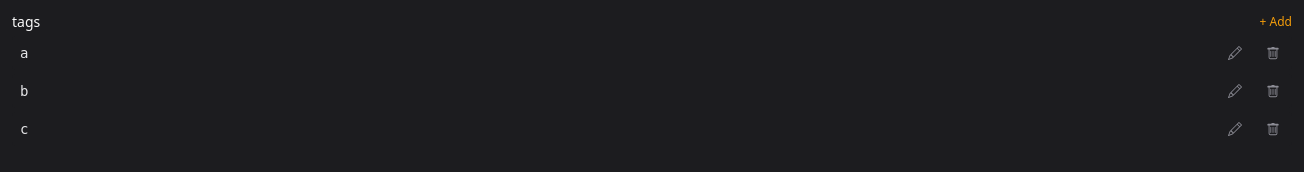
Test: ListField with a controlled parent › keeps editing the same entry after an earlier one is removed (middle)
The image size is (1304, 172).
Click the button titled "Edit b".
click(1235, 91)  # box [1220,76,1250,106]
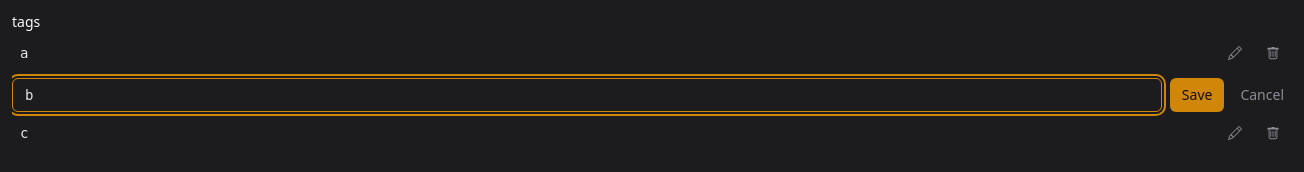
Replace the text in the field showing "b" with "x" at (587, 95), box [12,78,1162,112]
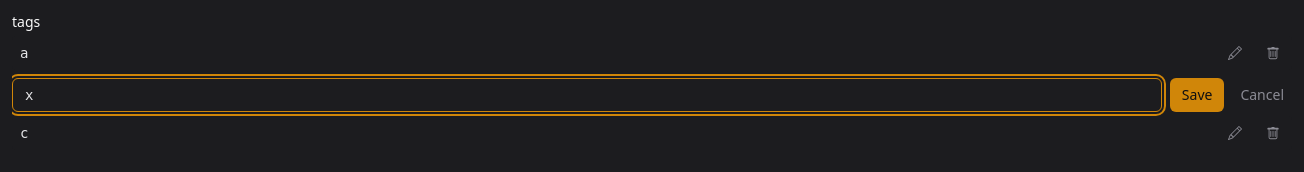
Click the button titled "Remove ".
click(1273, 53)  # box [1258,38,1288,68]
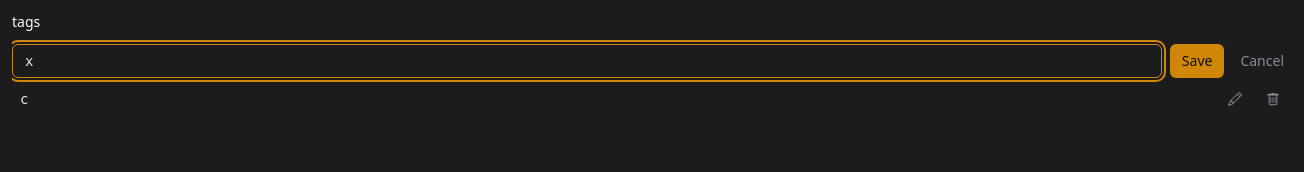
Press Enter in the field showing "x", box [12,44,1162,78]
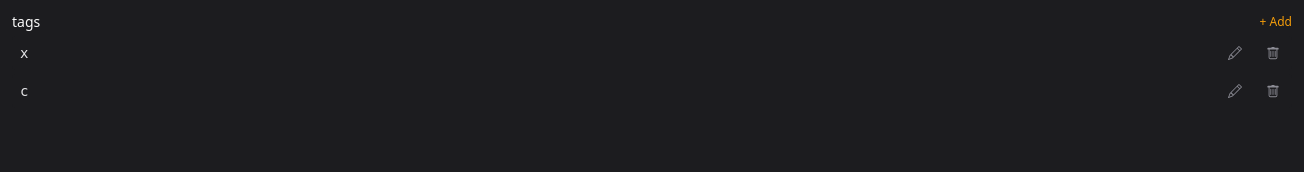
Check: the field is gone
